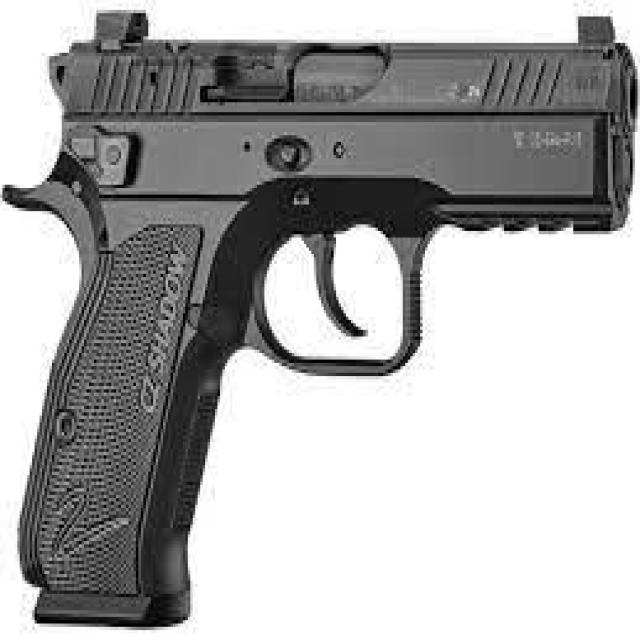gun: (0, 10, 638, 627)
